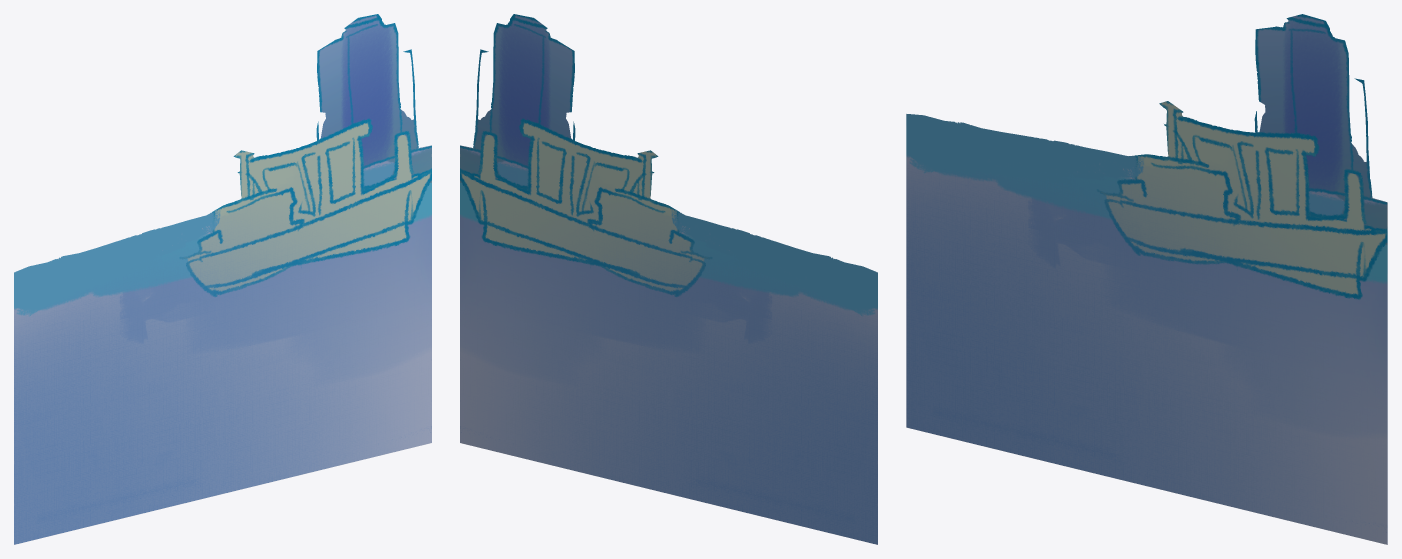
3 renders of one model, left to right at view 1: azimuth 30°, elevation 25°; view 2: azimuth 150°, elevation 25°; view 3: azimuth 330°, elevation 25°, orthographic. The views are drawn at different scales.
Parts seen in each view (by area): view 1: mask_bg_2; view 2: mask_bg_2; view 3: mask_bg_2.
Boxes of the visible parts, box(x1,y1,x2,y2) form: mask_bg_2: box(14, 14, 431, 544); mask_bg_2: box(460, 14, 877, 544); mask_bg_2: box(906, 14, 1387, 544).
Bounding box in the file's own units: 10 × 10.13 × 1.53e-07.
1 material, 1 textured.
